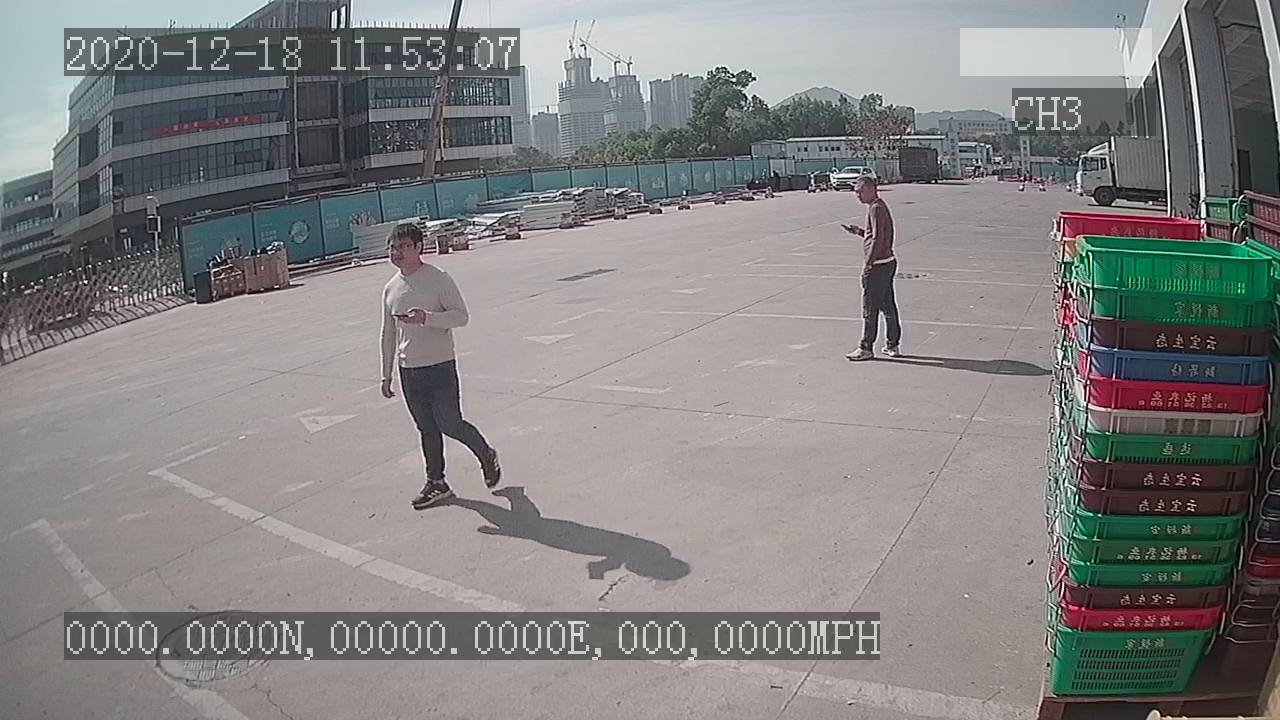person: (367, 220, 506, 517), (836, 174, 911, 370)
